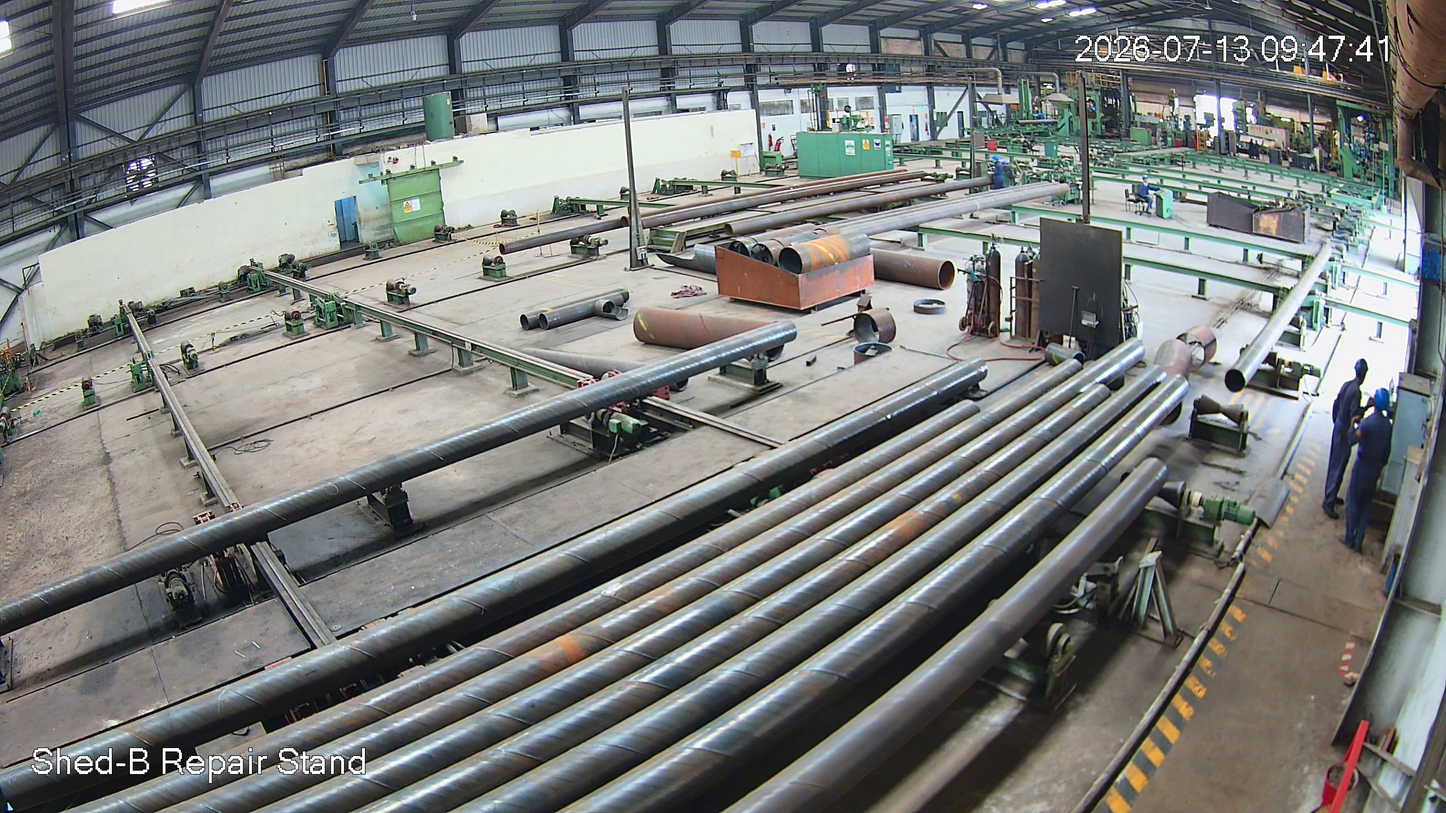Helmet: (1372, 386, 1397, 425), (1346, 354, 1371, 384)
Person: (1309, 356, 1374, 525), (1339, 390, 1394, 553)
